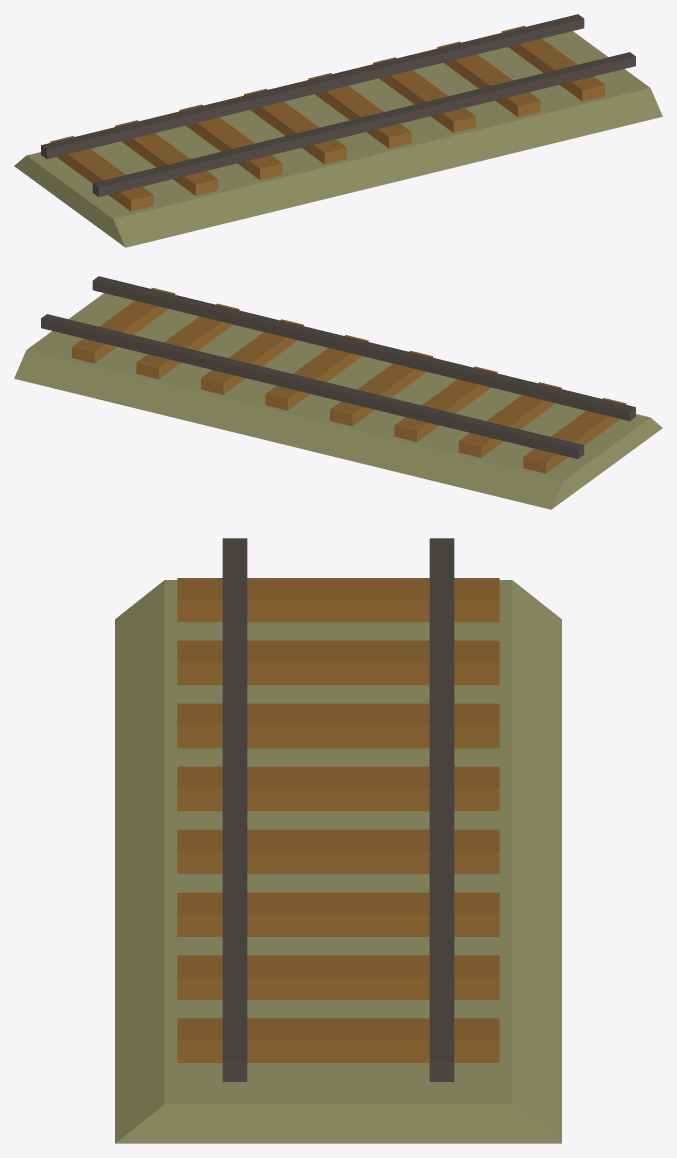
File: SM_Via_Recta10_v1_Madera_LOD1.fbx
The picture shows the model from 3 angles, top to bottom: view 1: azimuth 30°, elevation 25°; view 2: azimuth 150°, elevation 25°; view 3: azimuth 270°, elevation 25°; orthographic projection. The views are drawn at different scales.
Visible parts, largest first — view 1: SM_via_trazado_v1_LOD1; view 2: SM_via_trazado_v1_LOD1; view 3: SM_via_trazado_v1_LOD1.
Boxes of the visible parts, x1,y1,x2,y2 form: SM_via_trazado_v1_LOD1: (14,14,662,247); SM_via_trazado_v1_LOD1: (14,276,662,509); SM_via_trazado_v1_LOD1: (115,538,561,1143).
Size of the model in its own units: 10 by 0.72 by 3.6.
